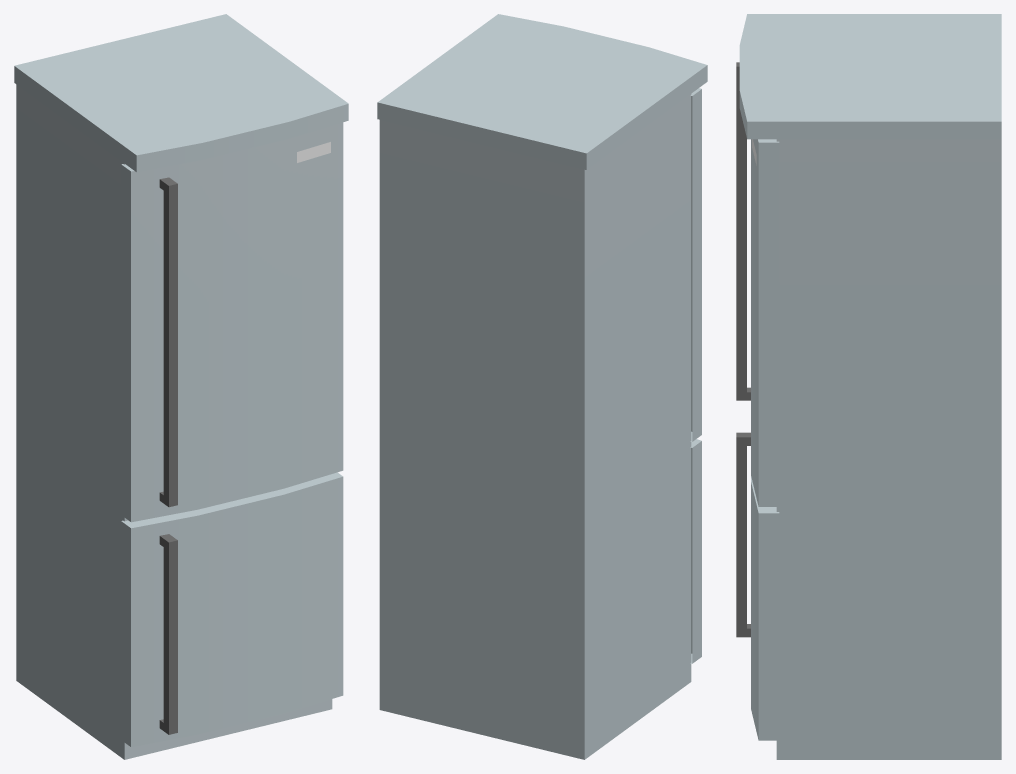
Rendered from SM_fridge_001.FBX.
3 views of the same model, side by side, from view 1: azimuth 30°, elevation 25°; view 2: azimuth 150°, elevation 25°; view 3: azimuth 270°, elevation 25° (orthographic). The views are drawn at different scales.
Visible parts, largest first — view 1: SM_fridge_001; view 2: SM_fridge_001; view 3: SM_fridge_001.
Part boxes in pixels (box(x1,y1,x2,y2)): SM_fridge_001: box(14, 14, 348, 759); SM_fridge_001: box(377, 14, 707, 759); SM_fridge_001: box(736, 14, 1001, 759).
Size of the model in its own units: 69.2 by 72.15 by 192.
